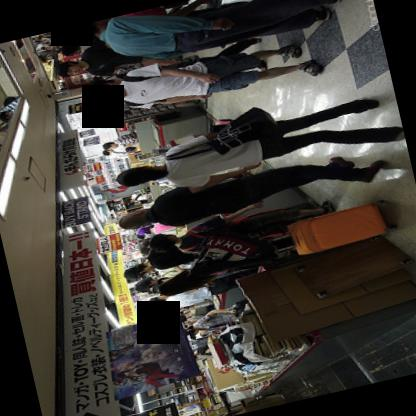backpack: (122, 57, 199, 106), (181, 229, 204, 251)
handbag: (166, 107, 279, 160), (191, 230, 272, 270)
suitcase: (270, 197, 395, 254)
